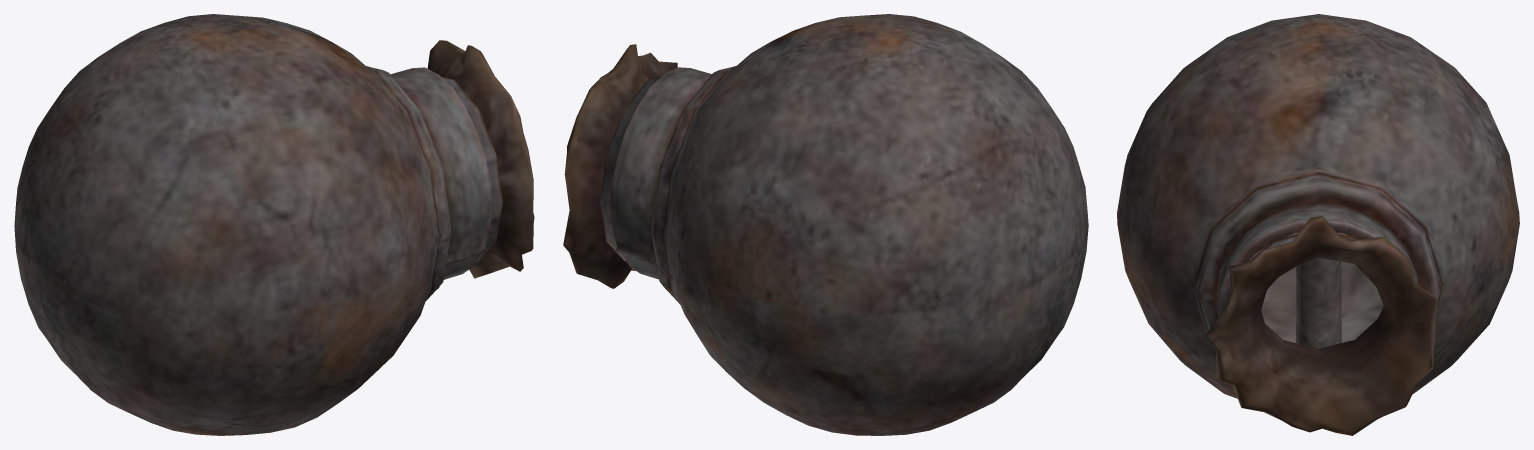
File: weapon-wp_a_1164.glb
3 views of the same model, side by side, from view 1: azimuth 30°, elevation 25°; view 2: azimuth 150°, elevation 25°; view 3: azimuth 270°, elevation 25° (orthographic). The views are drawn at different scales.
Parts seen in each view (by area): view 1: wp_a_1164_mesh; view 2: wp_a_1164_mesh; view 3: wp_a_1164_mesh.
Boxes of the visible parts, x1,y1,x2,y2 form: wp_a_1164_mesh: (14, 14, 534, 435); wp_a_1164_mesh: (563, 14, 1088, 435); wp_a_1164_mesh: (1117, 14, 1519, 435).
Size of the model in its own units: 0.2584 by 0.2133 by 0.2133.
1 material, 1 textured.
